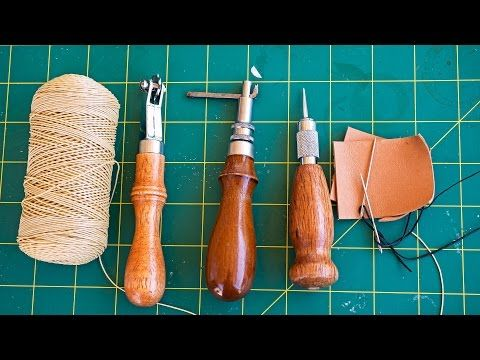cuero: (329, 125, 435, 221)
